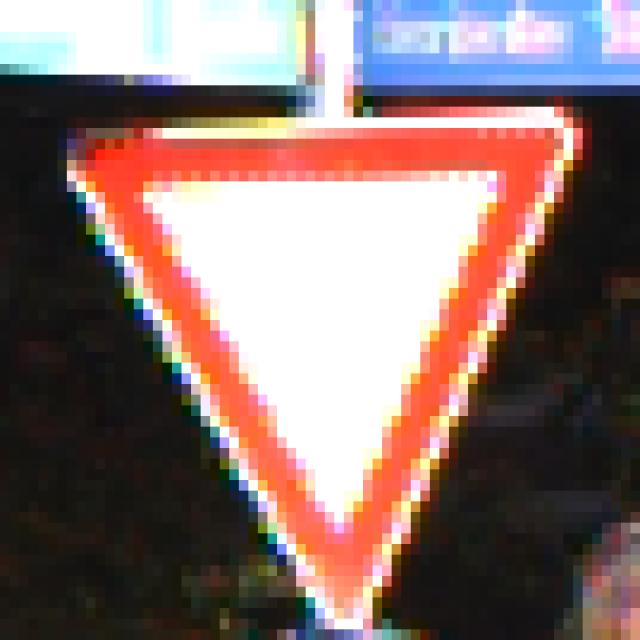Give Way: (58, 54, 584, 577)
